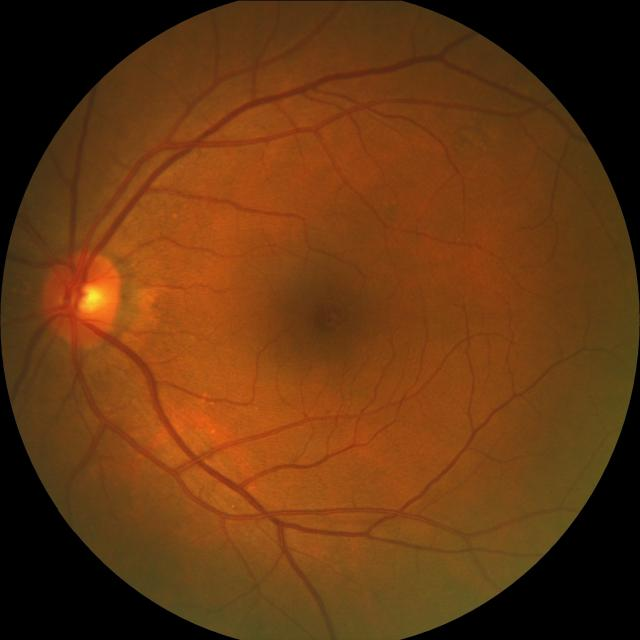OC: (64, 275, 104, 319)
OD: (44, 250, 124, 342)
